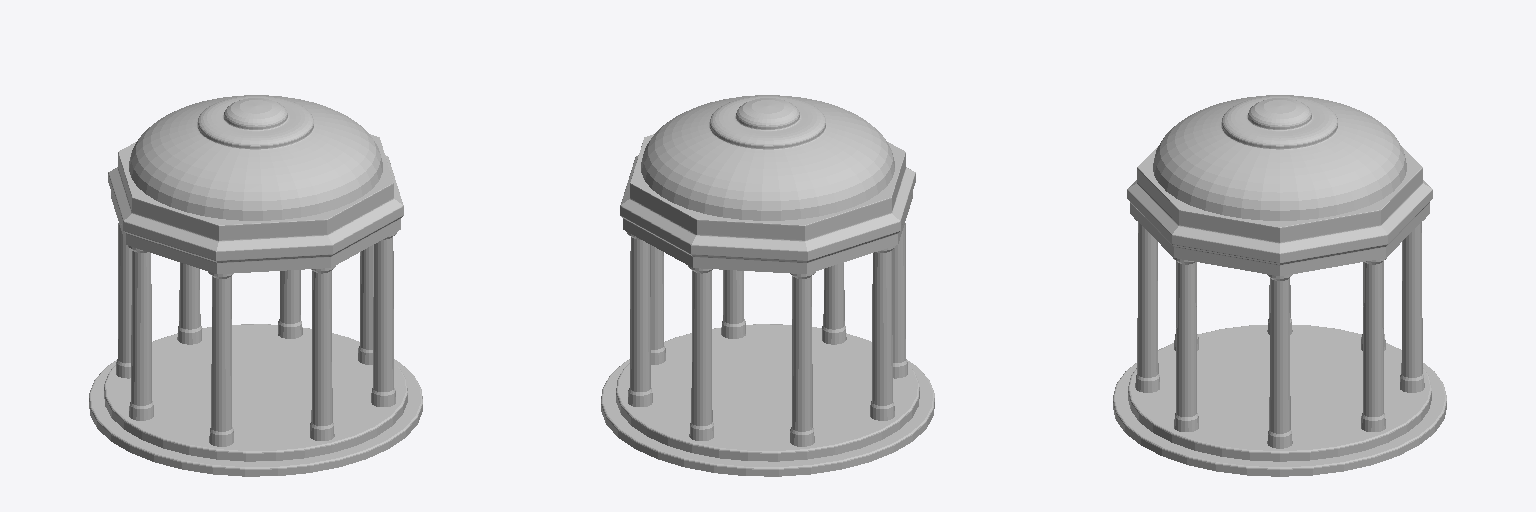
File: KioskoC.obj
3 renders of one model, left to right at view 1: azimuth 30°, elevation 25°; view 2: azimuth 150°, elevation 25°; view 3: azimuth 270°, elevation 25°, orthographic.
Parts seen in each view (by area): view 1: polySurface1_polySurface3, polySurface1_polySurface4, polySurface1_polySurface5, polySurface2_polySurface1, polySurface1_polySurface7, polySurface1_polySurface13, polySurface1_polySurface8, polySurface1_polySurface12, polySurface1_polySurface11, polySurface1_polySurface9, polySurface1_polySurface10; view 2: polySurface1_polySurface3, polySurface1_polySurface4, polySurface1_polySurface5, polySurface1_polySurface12, polySurface1_polySurface11, polySurface1_polySurface13, polySurface1_polySurface10, polySurface2_polySurface1, polySurface1_polySurface7, polySurface1_polySurface9, polySurface1_polySurface8; view 3: polySurface1_polySurface3, polySurface1_polySurface4, polySurface1_polySurface5, polySurface1_polySurface9, polySurface1_polySurface8, polySurface1_polySurface10, polySurface1_polySurface7, polySurface1_polySurface11.
Boxes of the visible parts, x1,y1,x2,y2 form: polySurface1_polySurface3: [89, 324, 422, 476]; polySurface1_polySurface4: [129, 95, 382, 220]; polySurface1_polySurface5: [108, 134, 403, 273]; polySurface2_polySurface1: [208, 272, 233, 446]; polySurface1_polySurface7: [310, 266, 335, 440]; polySurface1_polySurface13: [128, 246, 153, 420]; polySurface1_polySurface8: [371, 232, 396, 406]; polySurface1_polySurface12: [116, 223, 131, 378]; polySurface1_polySurface11: [177, 263, 201, 344]; polySurface1_polySurface9: [358, 245, 373, 364]; polySurface1_polySurface10: [278, 270, 302, 338]; polySurface1_polySurface3: [601, 324, 934, 476]; polySurface1_polySurface4: [641, 95, 894, 220]; polySurface1_polySurface5: [620, 134, 915, 273]; polySurface1_polySurface12: [790, 272, 815, 446]; polySurface1_polySurface11: [688, 266, 713, 440]; polySurface1_polySurface13: [870, 246, 895, 420]; polySurface1_polySurface10: [627, 232, 652, 406]; polySurface2_polySurface1: [892, 223, 907, 378]; polySurface1_polySurface7: [822, 263, 846, 344]; polySurface1_polySurface9: [650, 245, 665, 364]; polySurface1_polySurface8: [721, 270, 745, 338]; polySurface1_polySurface3: [1113, 325, 1446, 476]; polySurface1_polySurface4: [1153, 95, 1406, 220]; polySurface1_polySurface5: [1127, 147, 1432, 275]; polySurface1_polySurface9: [1267, 274, 1292, 448]; polySurface1_polySurface8: [1173, 258, 1198, 431]; polySurface1_polySurface10: [1361, 258, 1386, 431]; polySurface1_polySurface7: [1134, 218, 1159, 392]; polySurface1_polySurface11: [1400, 218, 1425, 392].
Bounding box in the file's own units: 33.38 × 33 × 33.38.